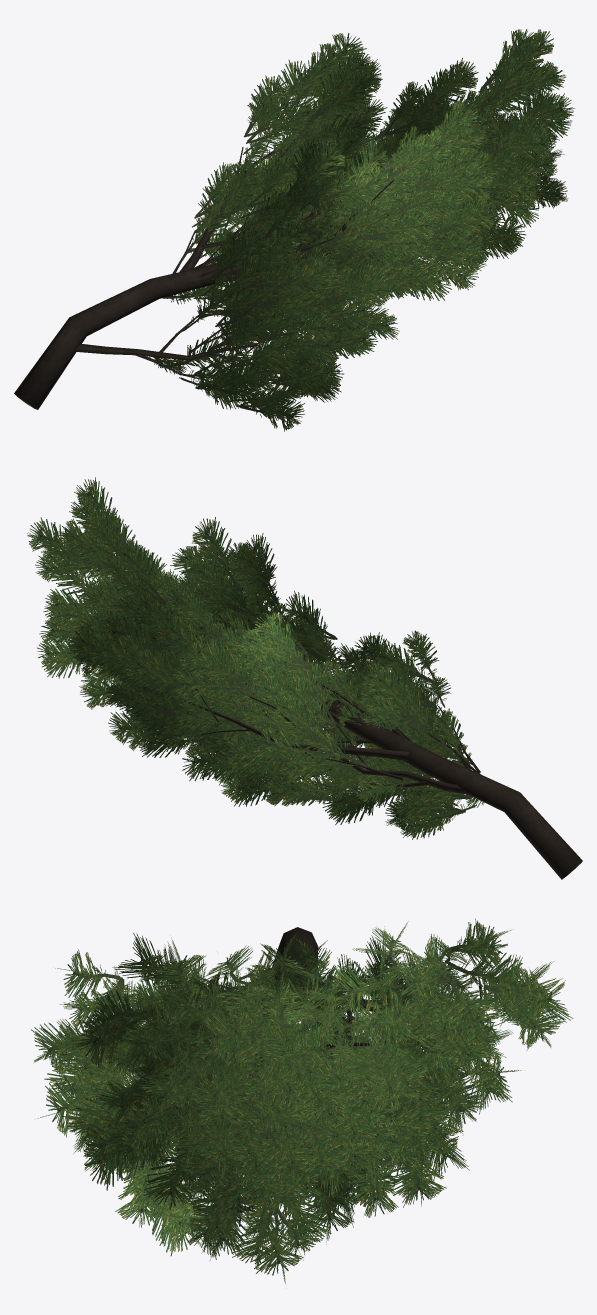
The model's file is krummholz_pine_v01_LOD1.fbx.
The picture shows the model from 3 angles, top to bottom: view 1: azimuth 30°, elevation 25°; view 2: azimuth 150°, elevation 25°; view 3: azimuth 270°, elevation 25°; orthographic projection. The views are drawn at different scales.
Visible parts, largest first — view 1: krummholz_pine_v01_LOD1; view 2: krummholz_pine_v01_LOD1; view 3: krummholz_pine_v01_LOD1.
Boxes of the visible parts, box(x1,y1,x2,y2) form: krummholz_pine_v01_LOD1: box(14, 29, 574, 431); krummholz_pine_v01_LOD1: box(27, 477, 582, 879); krummholz_pine_v01_LOD1: box(31, 918, 573, 1283).
Bounding box in the file's own units: 393 × 227 × 223.
Materials: 2 (2 with a texture image).
